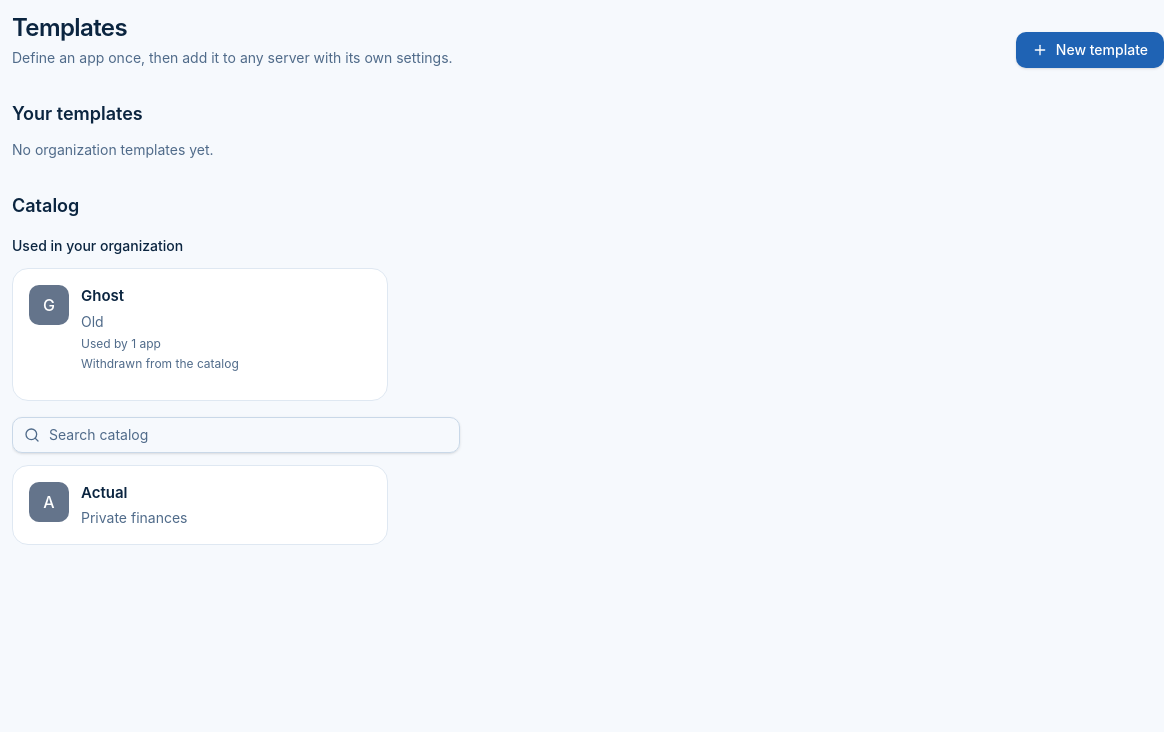
Test: OrgTemplatesPage › searches the remaining catalog by current summary, keyword and alternative
Expected: the link named "Actual" is shown, [13,466,387,544]
Expected: the text "Withdrawn from the catalog" is shown, [81,356,239,370]
Type "finances" into the field labelled "Search catalog" at (236,434), box [12,416,460,452]
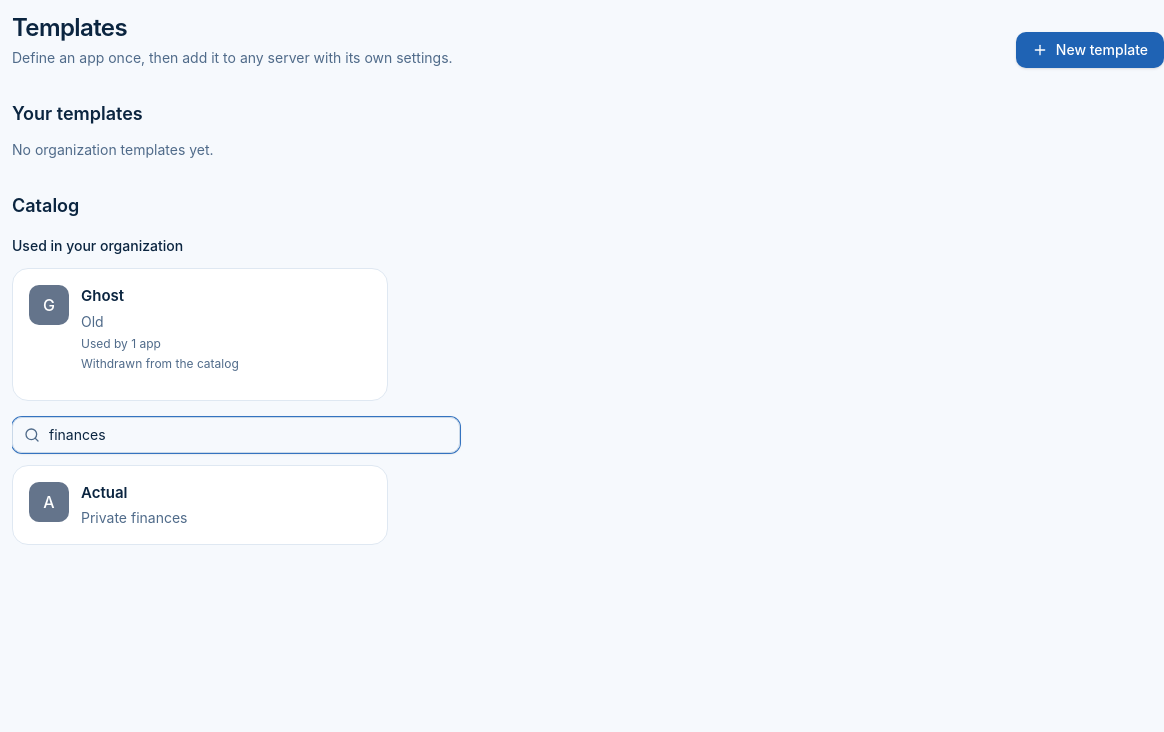
Expected: the link named "Actual" is shown, [13,466,387,544]
Replace the text in the field named "Search catalog" with "budget" at (236,434), box [12,416,460,452]
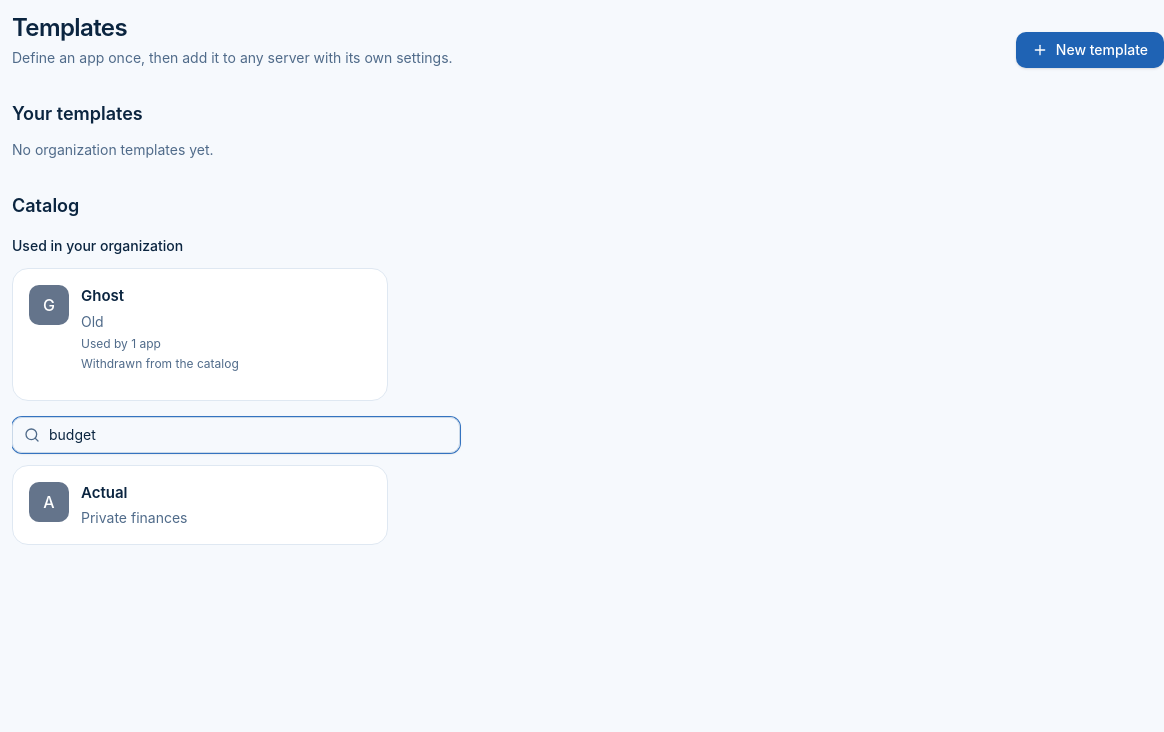
Expected: the link named "Actual" is shown, [13,466,387,544]
Replace the text in the field named "Search catalog" with "ynab" at (236,434), box [12,416,460,452]
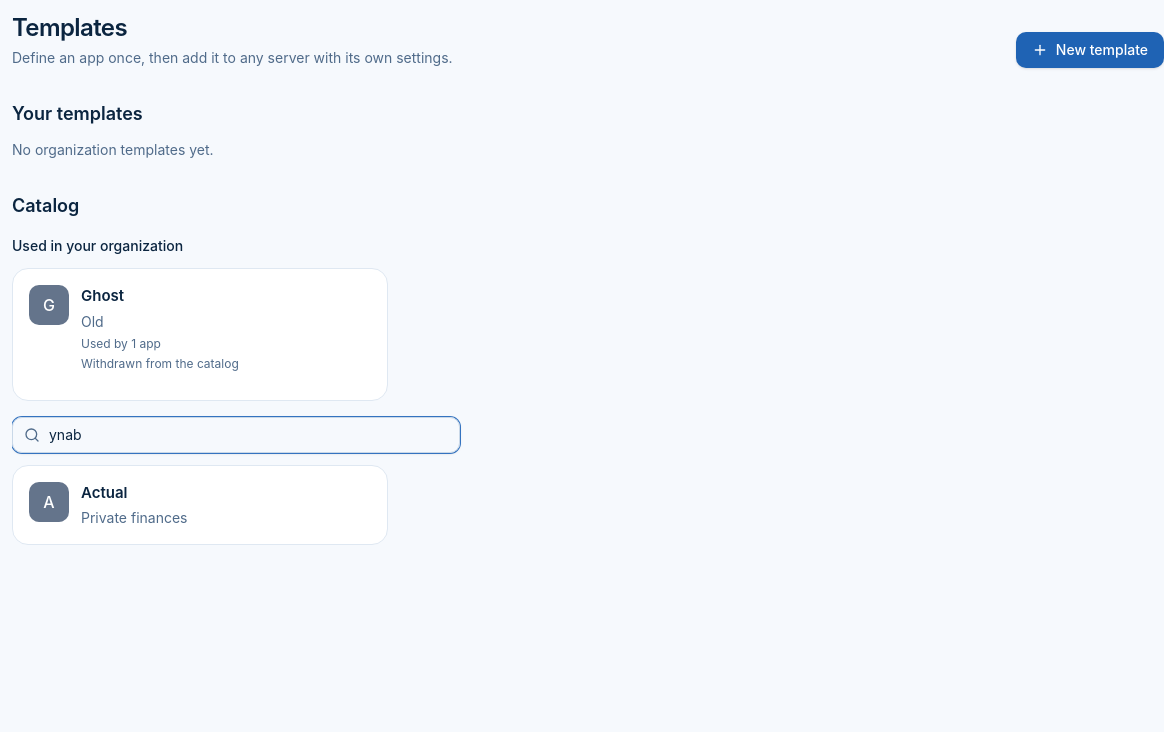
Expected: the link named "Actual" is shown, [13,466,387,544]
Replace the text in the field named "Search catalog" with "unmatched" at (236,434), box [12,416,460,452]
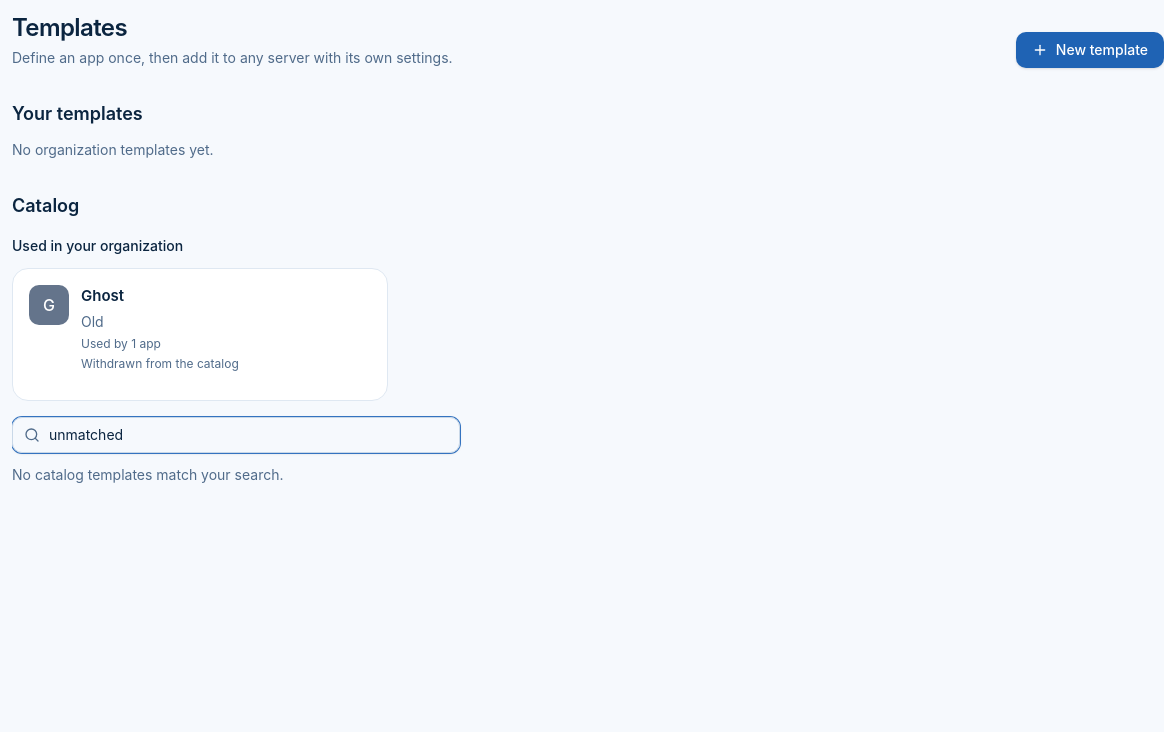
Expected: the link named "Ghost" is shown, [13,269,387,400]
Expected: the text "No catalog templates match your search." is shown, [12,466,284,482]
